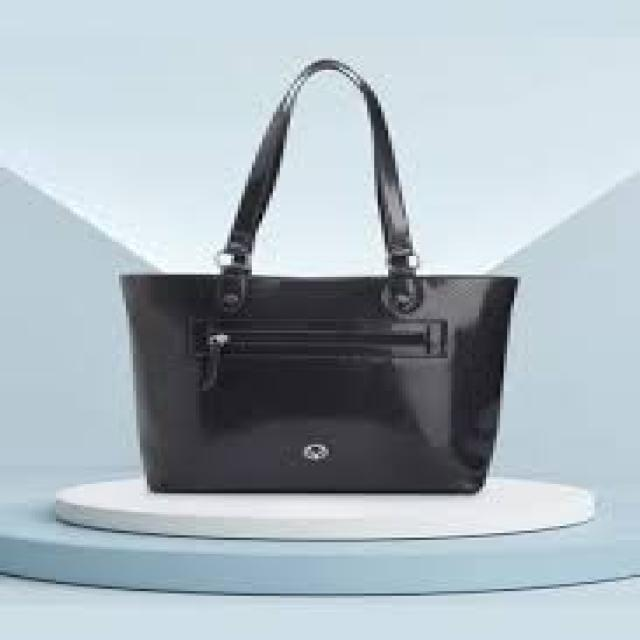handbag: (115, 56, 518, 493)
